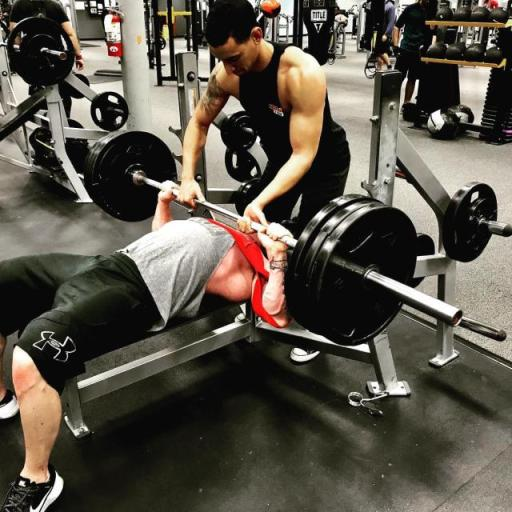Under Armour: (32, 329, 78, 364)
